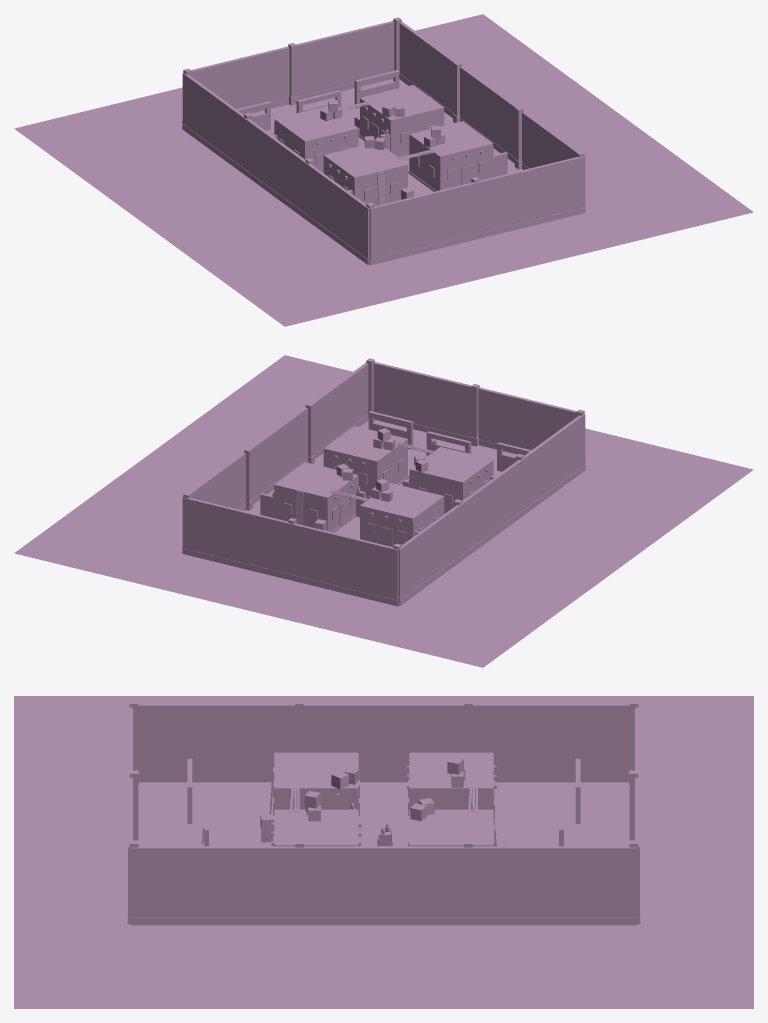
Rendered from StageSet1Ray.fbx.
3 views of the same model, one above another, from view 1: azimuth 30°, elevation 25°; view 2: azimuth 150°, elevation 25°; view 3: azimuth 270°, elevation 25° (orthographic). The views are drawn at different scales.
Visible parts, largest first — view 1: Stage1Ray; view 2: Stage1Ray; view 3: Stage1Ray.
Boxes of the visible parts, <box> form: Stage1Ray: <box>14,14,753,326</box>; Stage1Ray: <box>14,355,753,667</box>; Stage1Ray: <box>14,696,753,1008</box>.
Size of the model in its own units: 43.81 by 5.28 by 43.81.
